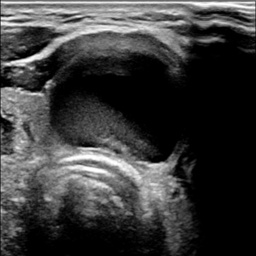mass: (50, 49, 178, 167)
